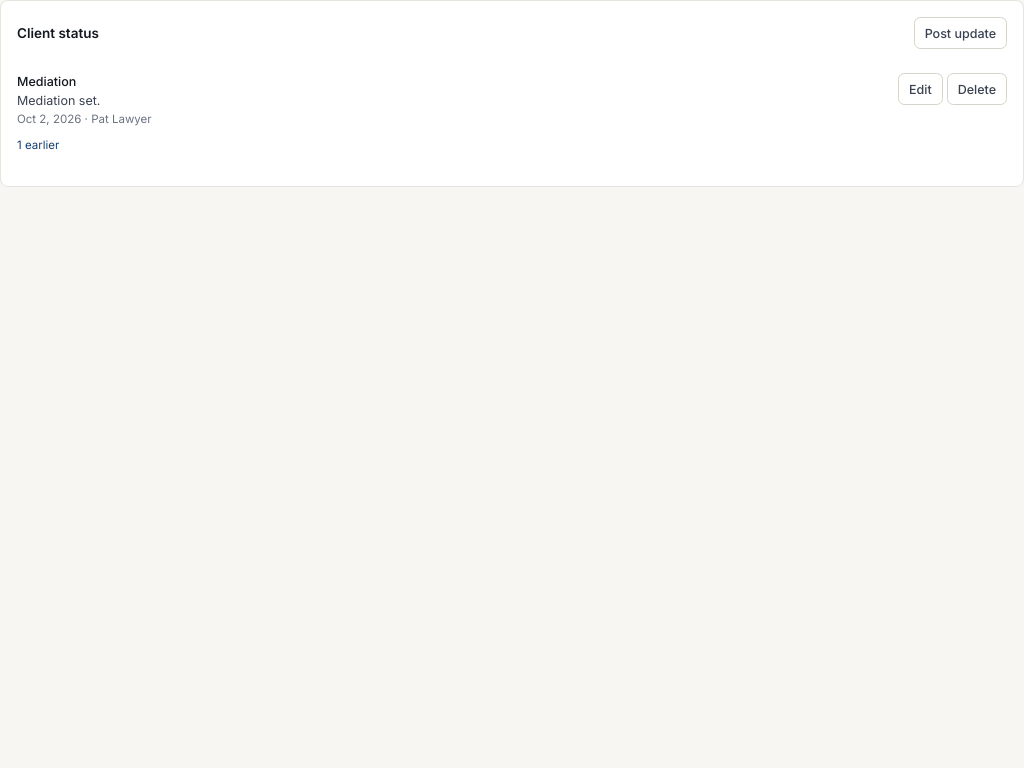
it: ClientStatusCard › the warning notice clears when a dialog is opened again
The image size is (1024, 768).
Click the button "Post update".
click(960, 33)  # box [914,17,1007,49]
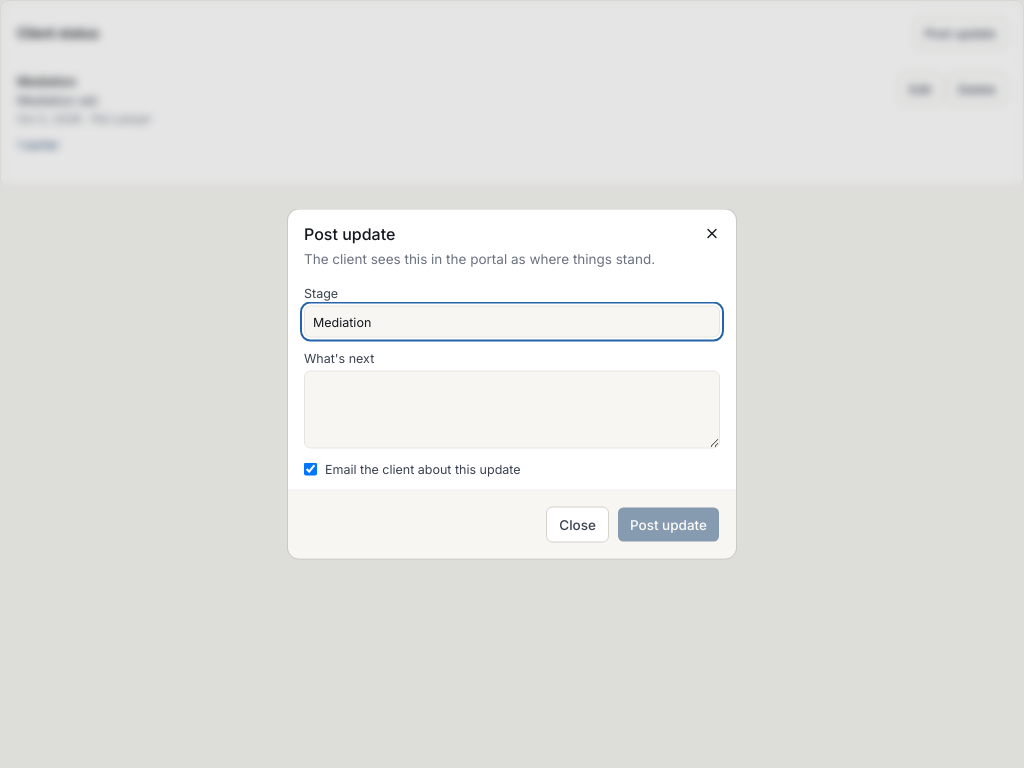
Type "Hi" into the text box labelled "What's next".
click(512, 410); type("Hi")  # box [304,370,720,448]
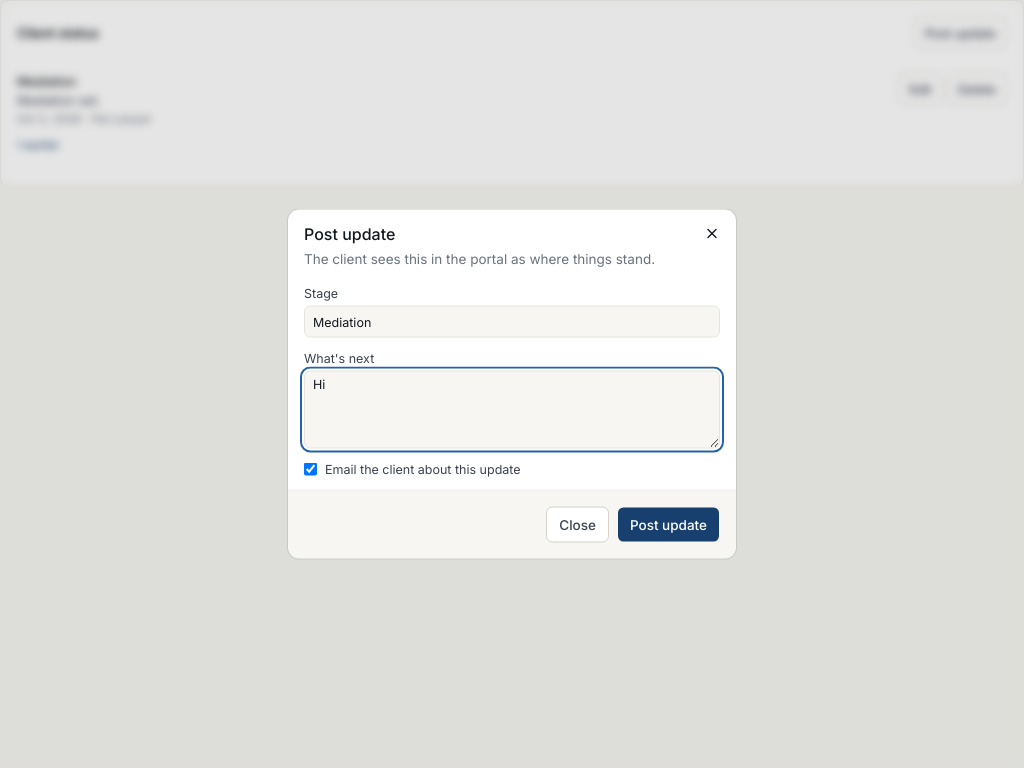
Click the button "Post update".
click(668, 524)  # box [617,506,720,542]
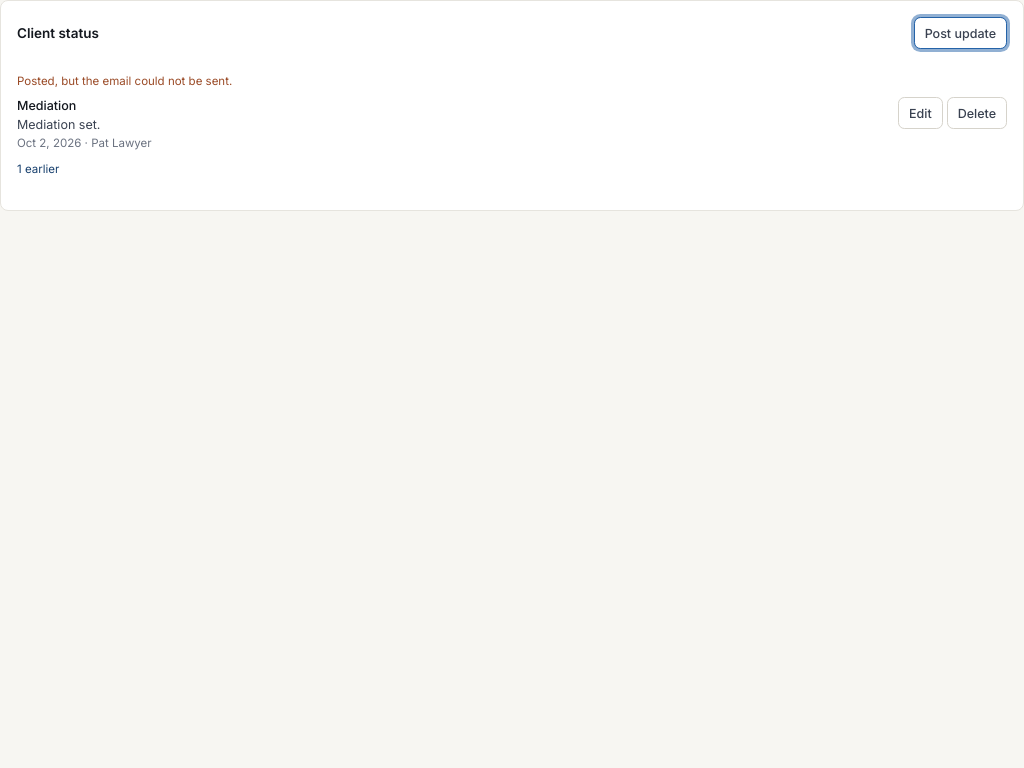
Now the text "Posted, but the email could not be sent." is shown, box [17,74,232,88]
Click the button "Post update".
click(960, 33)  # box [914,17,1007,49]
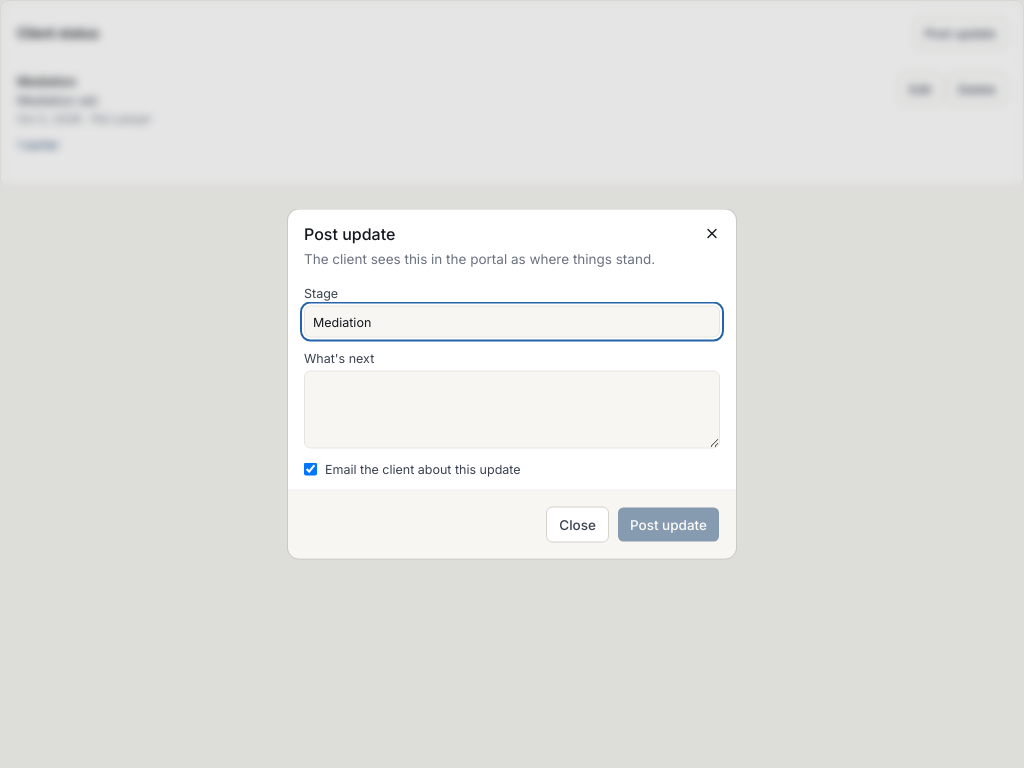
Now the text "Posted, but the email could not be sent." is gone
